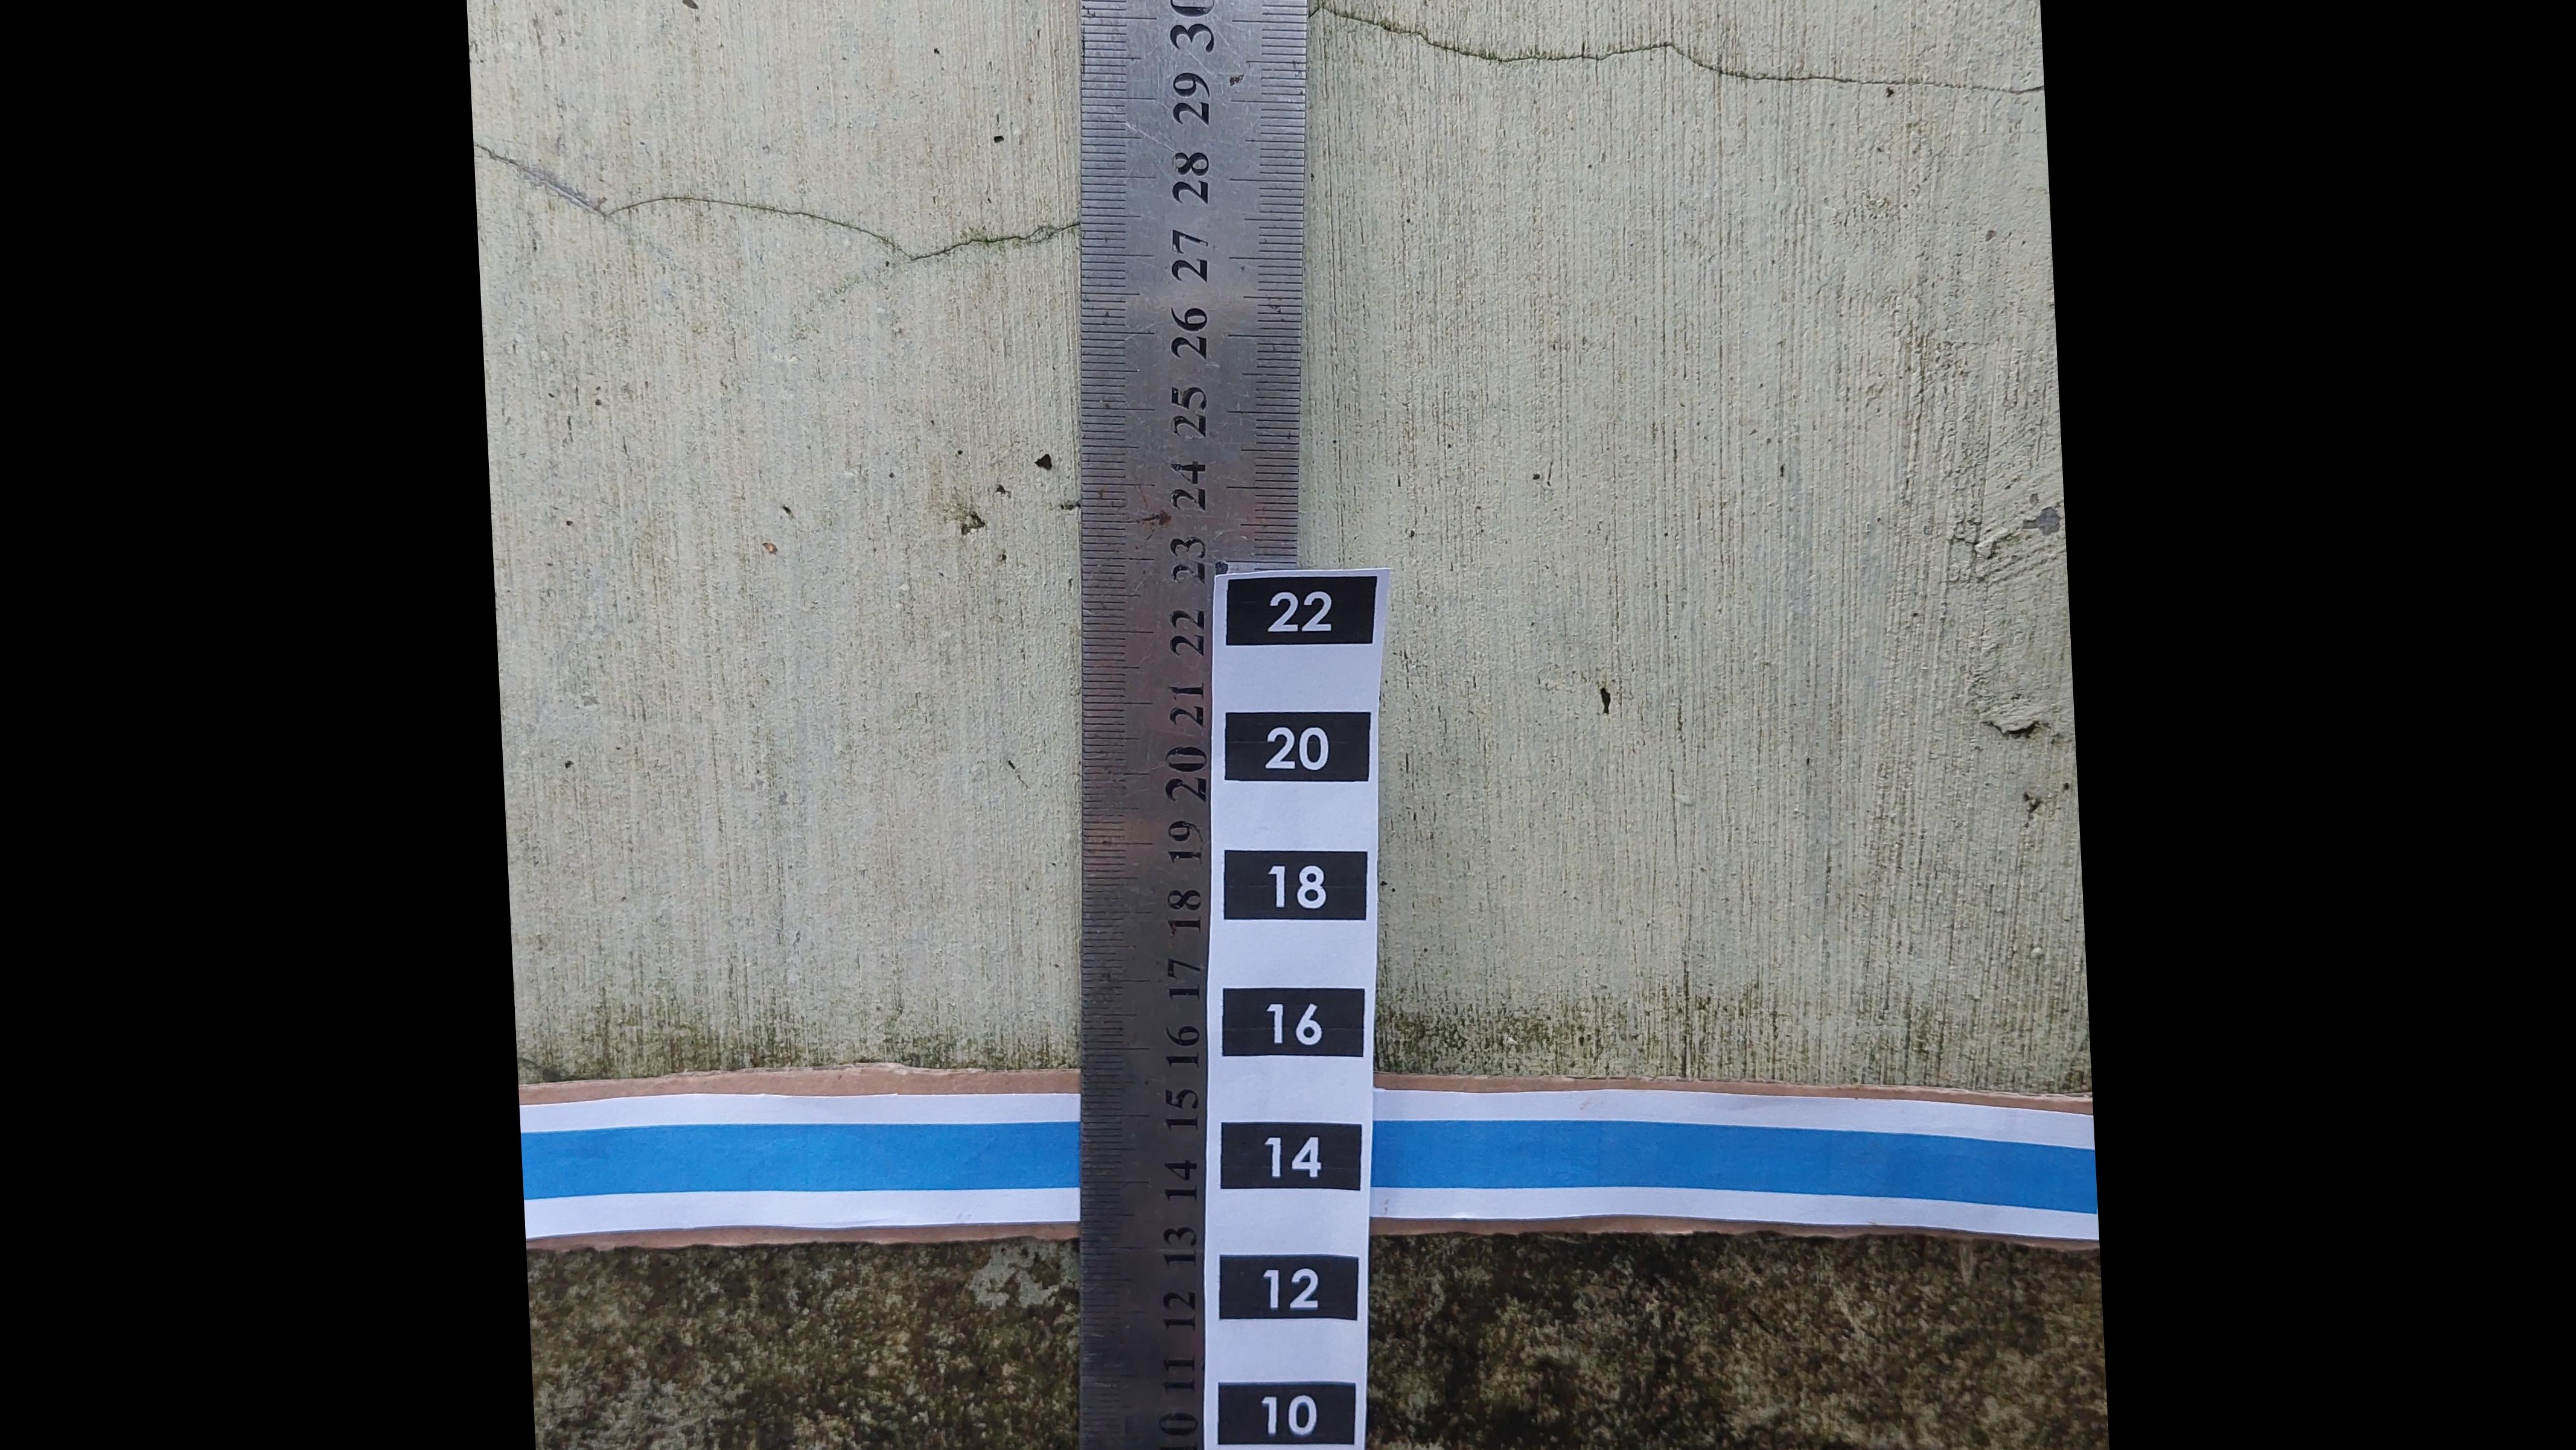kotak_2x1: (1226, 711, 1368, 783), (1217, 1254, 1359, 1324), (1228, 576, 1373, 645), (1223, 851, 1368, 920), (1223, 985, 1368, 1054), (1221, 1125, 1362, 1188)
